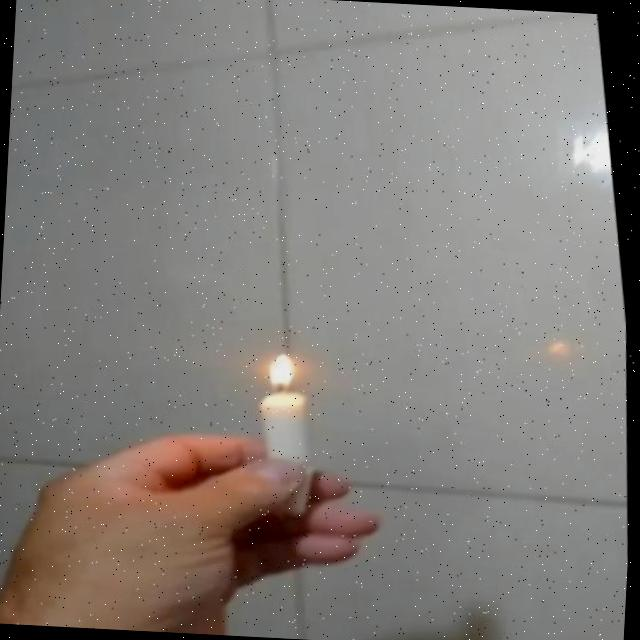fire: (262, 345, 316, 395)
